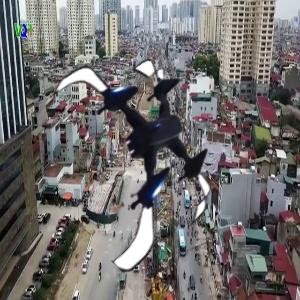drone: (35, 43, 239, 247)
